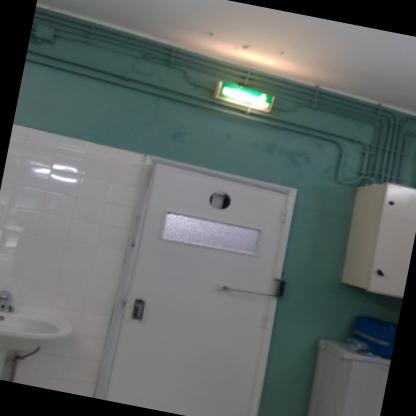closed: (88, 146, 319, 415)
